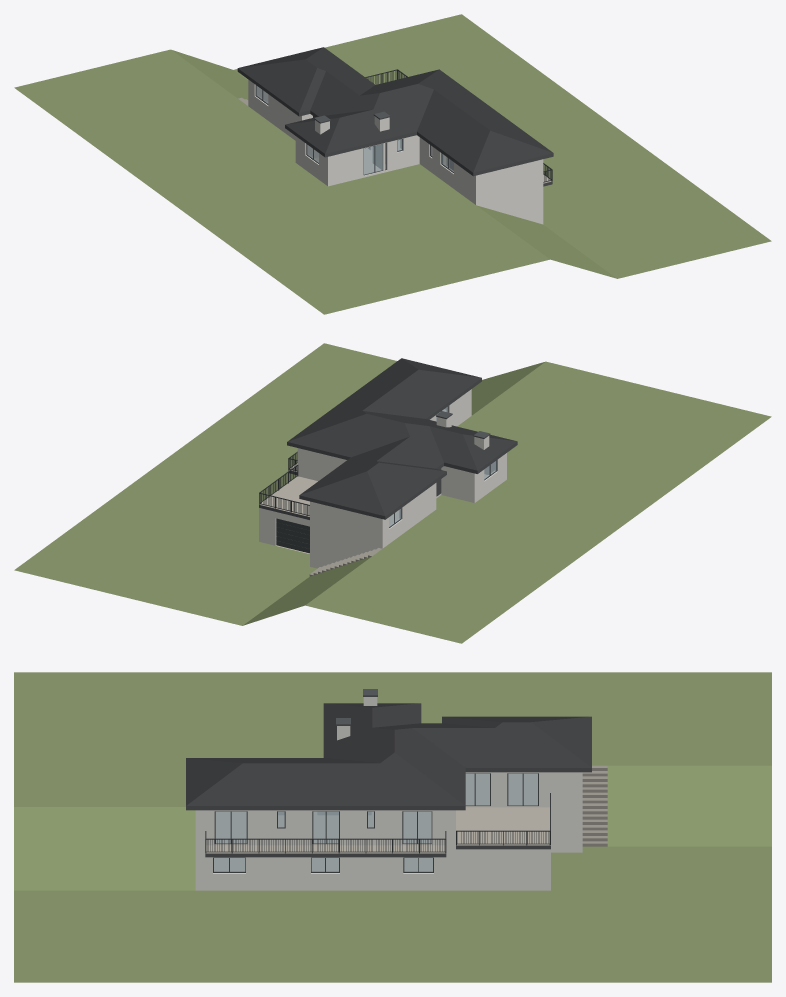
3 renders of one model, top to bottom at view 1: azimuth 30°, elevation 25°; view 2: azimuth 150°, elevation 25°; view 3: azimuth 270°, elevation 25°, orthographic. The views are drawn at different scales.
Visible parts, largest first — view 1: Terreno, Cobertura_4_Aguas, Piso1_Paredes_Exteriores, Piso1_Laje_Pavimento, Piso0_Paredes_Exteriores, Vidros; view 2: Terreno, Cobertura_4_Aguas, Piso1_Paredes_Exteriores, Terraco_34m2, Embasamento_Sala, Gradeamentos_Ferro, Piso0_Portao_Garagem, Piso0_Paredes_Exteriores, Piso1_Laje_Pavimento; view 3: Terreno, Cobertura_4_Aguas, Piso0_Paredes_Exteriores, Piso1_Paredes_Exteriores, Vidros, Piso1_Laje_Pavimento, Terraco_34m2, Gradeamentos_Ferro, Varanda_18m2, Caixilharia_RAL7019, Embasamento_Sala, Piso0_Laje_Terreo (+1 smaller).
Part boxes in pixels (x1=…): Terreno: x1=14, y1=14, x2=771, y2=314; Cobertura_4_Aguas: x1=237, y1=47, x2=553, y2=176; Piso1_Paredes_Exteriores: x1=248, y1=79, x2=543, y2=203; Piso1_Laje_Pavimento: x1=248, y1=105, x2=543, y2=205; Piso0_Paredes_Exteriores: x1=479, y1=190, x2=543, y2=224; Vidros: x1=256, y1=86, x2=453, y2=174; Terreno: x1=14, y1=343, x2=771, y2=643; Cobertura_4_Aguas: x1=287, y1=358, x2=517, y2=519; Piso1_Paredes_Exteriores: x1=297, y1=389, x2=506, y2=546; Terraco_34m2: x1=259, y1=476, x2=317, y2=519; Embasamento_Sala: x1=310, y1=533, x2=376, y2=568; Gradeamentos_Ferro: x1=259, y1=451, x2=309, y2=516; Piso0_Portao_Garagem: x1=276, y1=518, x2=309, y2=553; Piso0_Paredes_Exteriores: x1=259, y1=508, x2=309, y2=545; Piso1_Laje_Pavimento: x1=298, y1=409, x2=506, y2=548; Terreno: x1=14, y1=672, x2=771, y2=982; Cobertura_4_Aguas: x1=186, y1=703, x2=591, y2=810; Piso0_Paredes_Exteriores: x1=195, y1=849, x2=550, y2=890; Piso1_Paredes_Exteriores: x1=195, y1=772, x2=582, y2=844; Vidros: x1=214, y1=773, x2=537, y2=871; Piso1_Laje_Pavimento: x1=195, y1=774, x2=582, y2=849; Terraco_34m2: x1=456, y1=807, x2=550, y2=849; Gradeamentos_Ferro: x1=205, y1=793, x2=550, y2=853; Varanda_18m2: x1=205, y1=845, x2=446, y2=857; Caixilharia_RAL7019: x1=213, y1=773, x2=538, y2=872; Embasamento_Sala: x1=551, y1=811, x2=582, y2=852; Piso0_Laje_Terreo: x1=214, y1=858, x2=432, y2=871.
Size of the model in its own units: 40 by 8.14 by 48.
